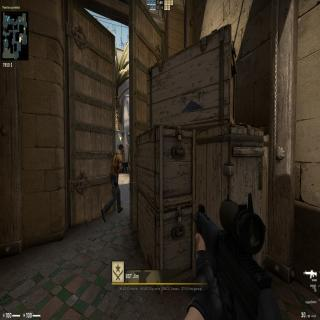T-Head: (119, 144, 124, 155)
